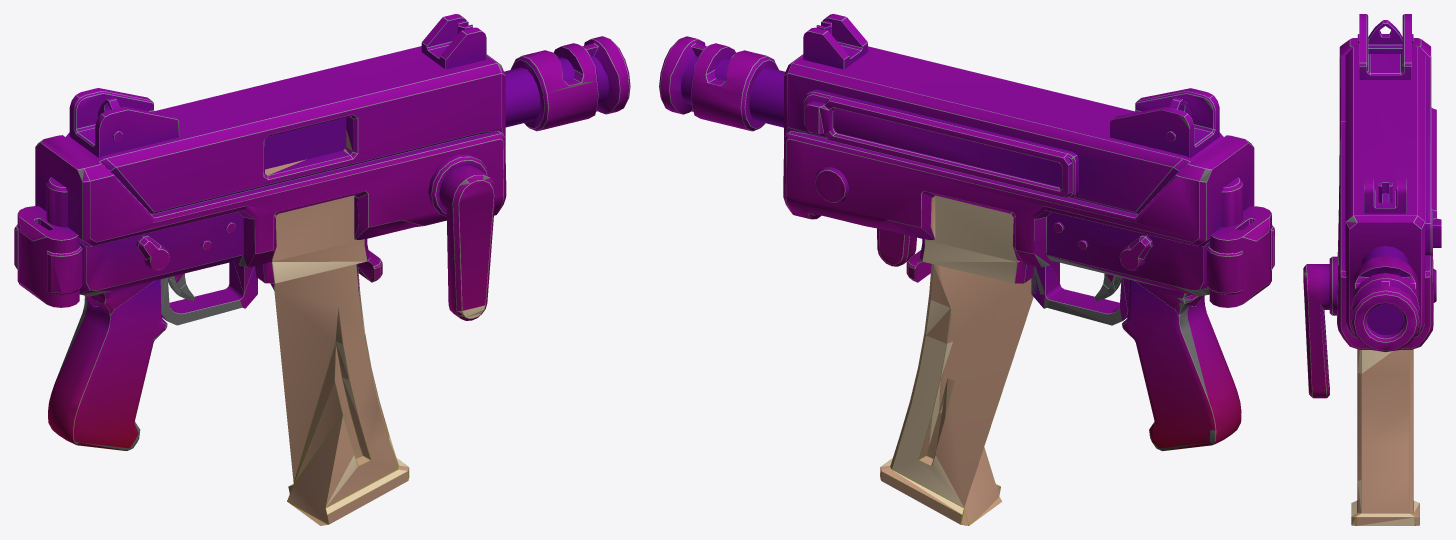
The model's file is wpn_rafale.glb.
3 renders of one model, left to right at view 1: azimuth 30°, elevation 25°; view 2: azimuth 150°, elevation 25°; view 3: azimuth 270°, elevation 25°, orthographic. The views are drawn at different scales.
Parts seen in each view (by area): view 1: wpn_rafale, chargeur; view 2: wpn_rafale, chargeur; view 3: wpn_rafale.
Boxes of the visible parts, x1=… form: wpn_rafale: x1=14, y1=14, x2=630, y2=525; chargeur: x1=48, y1=261, x2=257, y2=451; wpn_rafale: x1=659, y1=14, x2=1274, y2=525; chargeur: x1=1031, y1=265, x2=1241, y2=451; wpn_rafale: x1=1303, y1=14, x2=1441, y2=525.
Size of the model in its own units: 0.4915 by 0.3698 by 0.1138.
